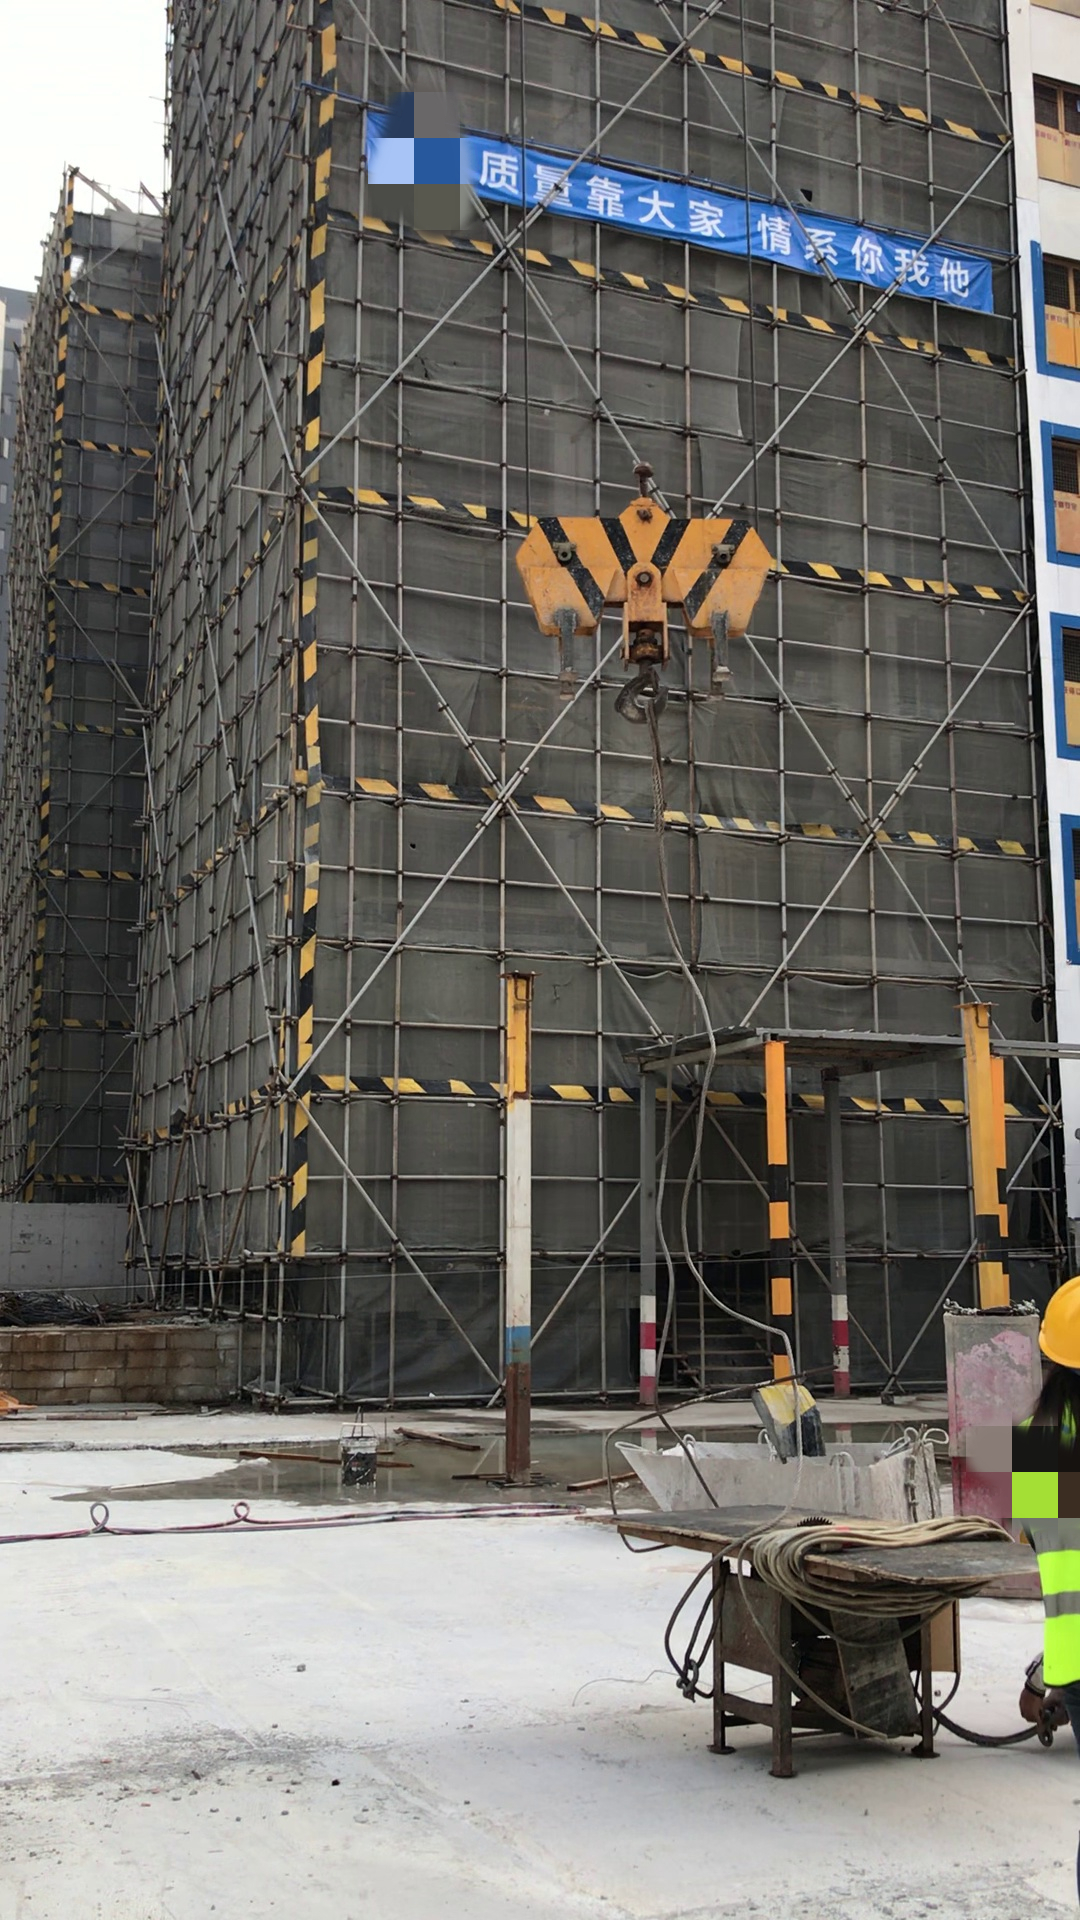cutter: (593, 1444, 966, 1774)
helmet: (1037, 1275, 1080, 1372)
hook: (508, 459, 833, 691)
hopper: (613, 1406, 966, 1539)
person: (1030, 1259, 1080, 1748)
slogan: (395, 123, 1060, 382)
vest: (1004, 1406, 1080, 1697)
